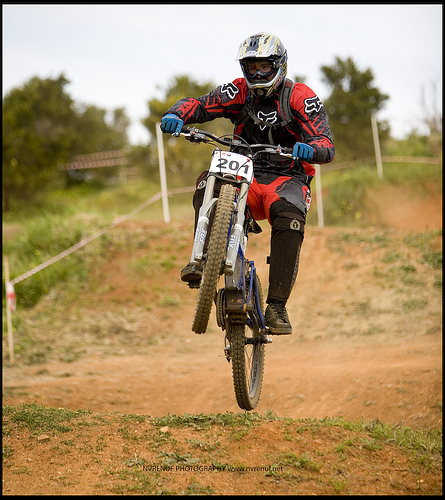helmet: (234, 32, 290, 89)
